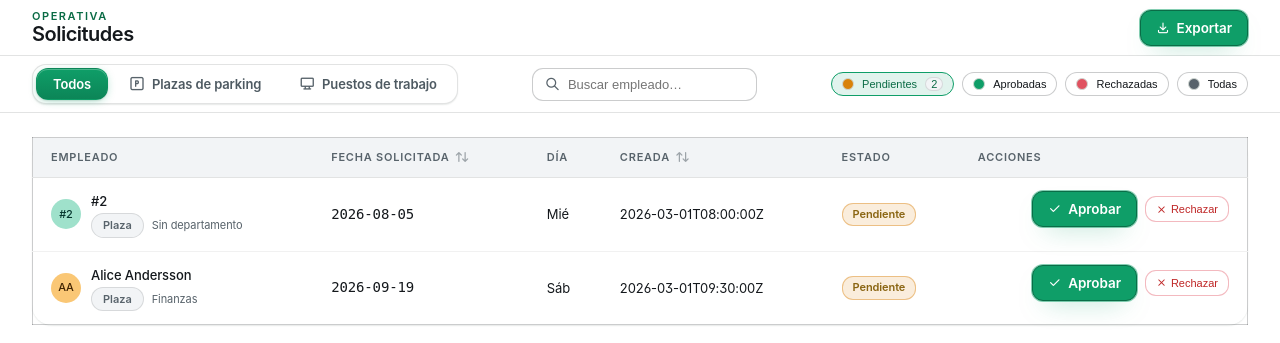
Test: PendingRequestsPage (ADMIN) › should_list_approved_and_offer_cancel_when_approved_tab_selected
Click the tab "Aprobadas" at (1010, 84), box [962,72,1058,96]
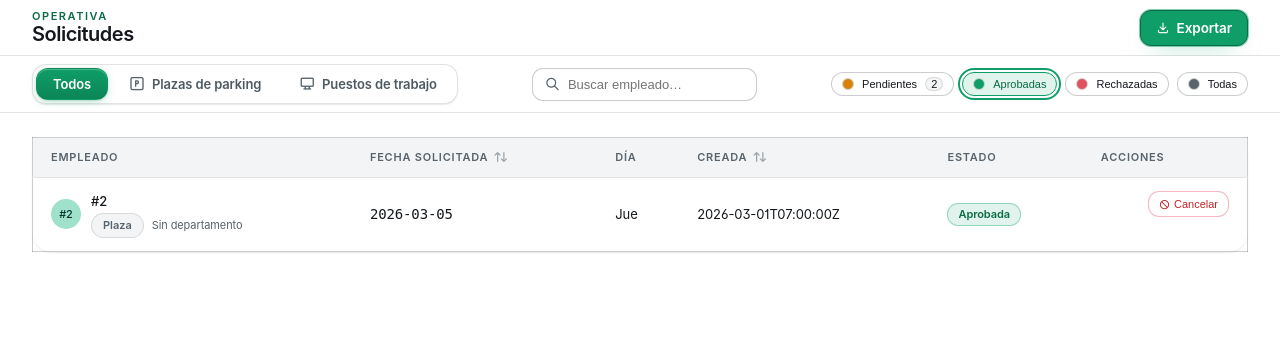
Expected: the text "2026-03-05" is shown, [370,206,453,222]
Expected: the button "Cancelar" is shown, [1148,191,1229,217]
Expected: the button "Aprobar" is gone
